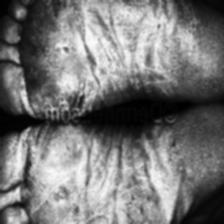Toxin: (6, 132, 40, 208), (125, 188, 148, 224), (44, 176, 74, 202), (167, 14, 206, 34), (60, 82, 92, 106), (160, 132, 186, 160), (47, 36, 73, 62), (66, 201, 80, 224)
